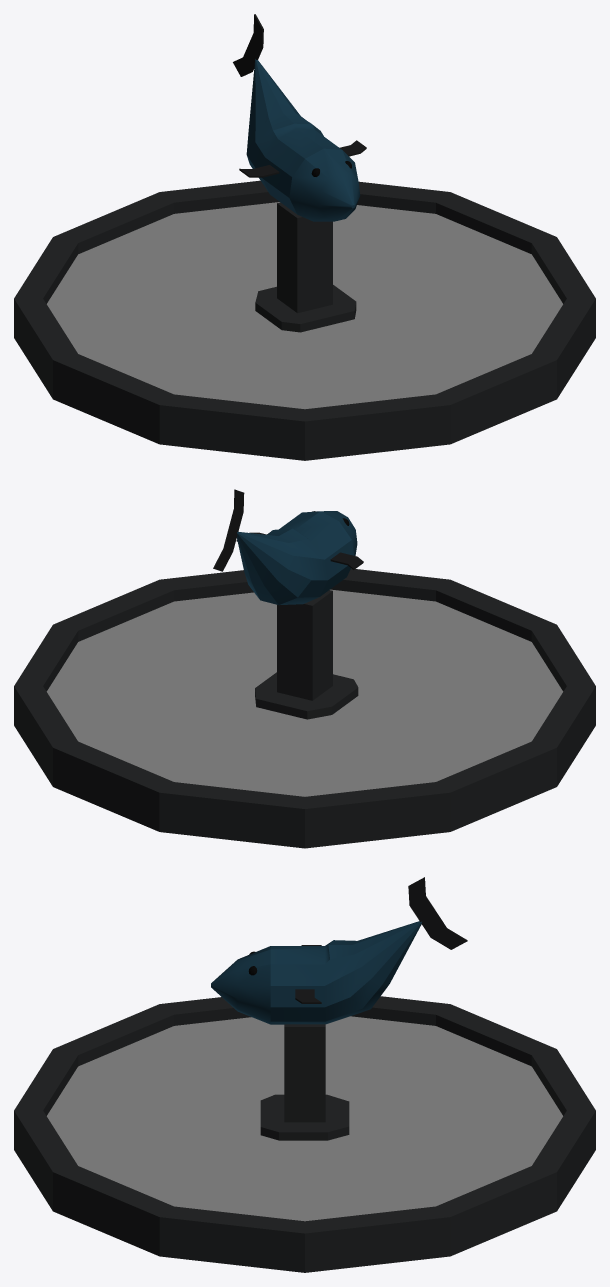
Rendered from Fontaine.dae.
3 renders of one model, top to bottom at view 1: azimuth 30°, elevation 25°; view 2: azimuth 150°, elevation 25°; view 3: azimuth 270°, elevation 25°, orthographic.
Parts seen in each view (by area): view 1: pCylinder4, pCylinder3, pCylinder2, pCube1, pCube5, pCube2; view 2: pCylinder4, pCylinder3, pCylinder2, pCube1, pCube5, pCube2; view 3: pCylinder4, pCylinder3, pCylinder2, pCube1, pCube5, pCube2.
Part boxes in pixels (box(x1,y1,x2,y2)): pCylinder4: box(47, 202, 562, 409); pCylinder3: box(14, 180, 595, 460); pCylinder2: box(246, 59, 360, 221); pCube1: box(277, 202, 332, 313); pCube5: box(255, 285, 356, 332); pCube2: box(233, 14, 263, 76); pCylinder4: box(46, 589, 563, 796); pCylinder3: box(14, 568, 595, 848); pCylinder2: box(237, 511, 357, 605); pCube1: box(277, 590, 332, 700); pCube5: box(255, 672, 358, 719); pCube2: box(213, 489, 244, 571); pCylinder4: box(47, 1016, 562, 1221); pCylinder3: box(14, 996, 595, 1272); pCylinder2: box(211, 921, 421, 1024); pCube1: box(284, 1024, 325, 1122); pCube5: box(260, 1094, 349, 1140); pCube2: box(408, 877, 467, 949).
Size of the model in its own units: 6.56 by 3.45 by 6.56.
